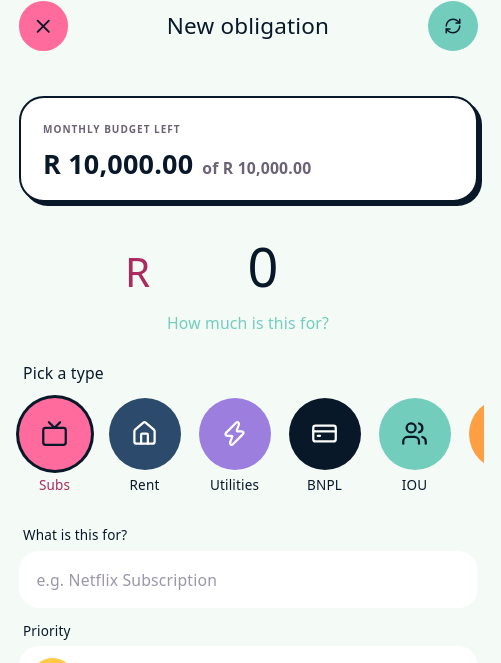
Scenario: ObligationForm Component › total occurrences is needed for fixed installments
The image size is (501, 663).
Click the button "Subs" at coordinates (54, 446), box [18, 398, 90, 494]
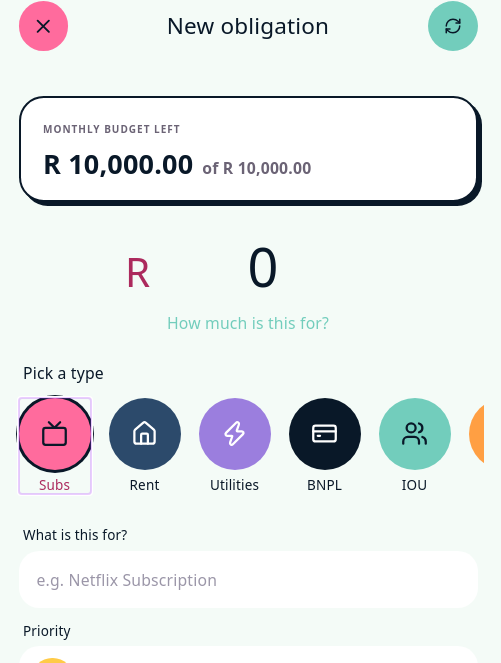
Type "Laptop" into the field labelled "What is this for?" at coordinates (248, 581), box [36, 569, 460, 592]
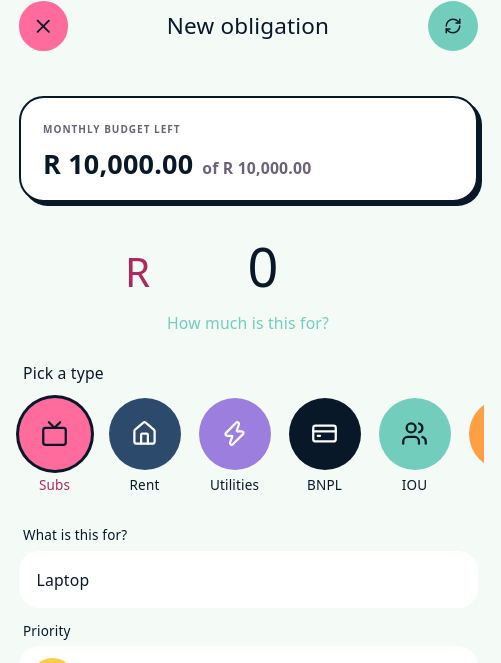
Type "1000" into the field named "amount" at coordinates (263, 266), box [155, 229, 371, 303]
(page scrolled)
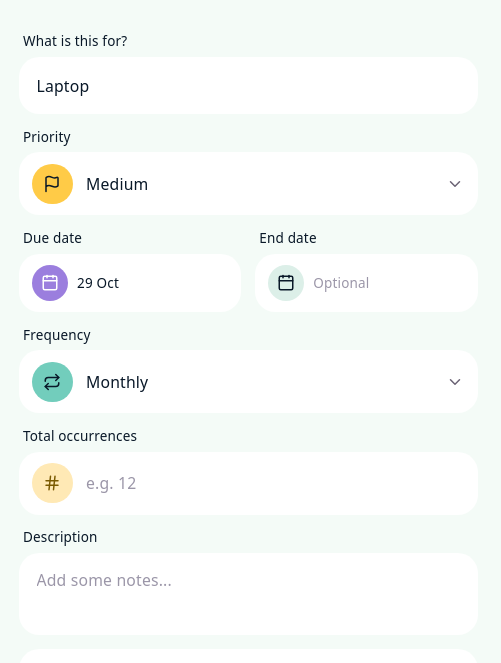
Select "Fixed Installments" in the dropdown labelled "Frequency" at coordinates (57, 335), box [23, 326, 90, 344]
(page scrolled)
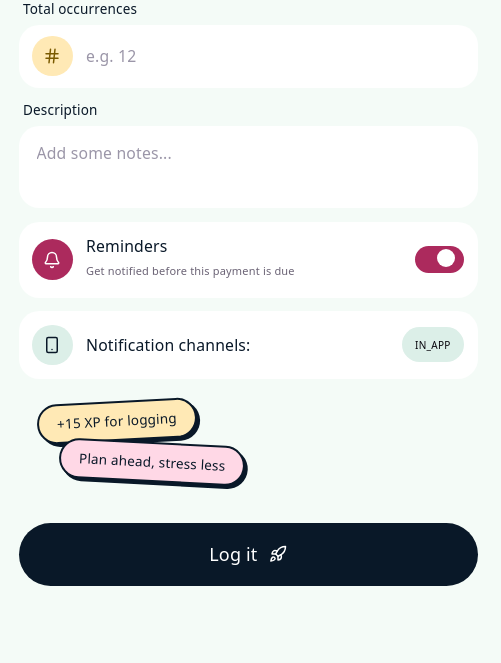
Click the button with aria-label "log obligation" at coordinates (248, 554), box [18, 522, 478, 586]
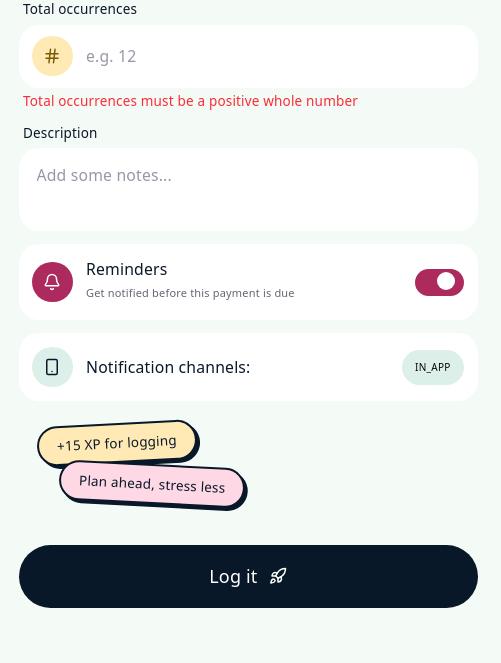
Expected: the text "Total occurrences must be a positive whole number" is shown, [23, 92, 358, 110]
